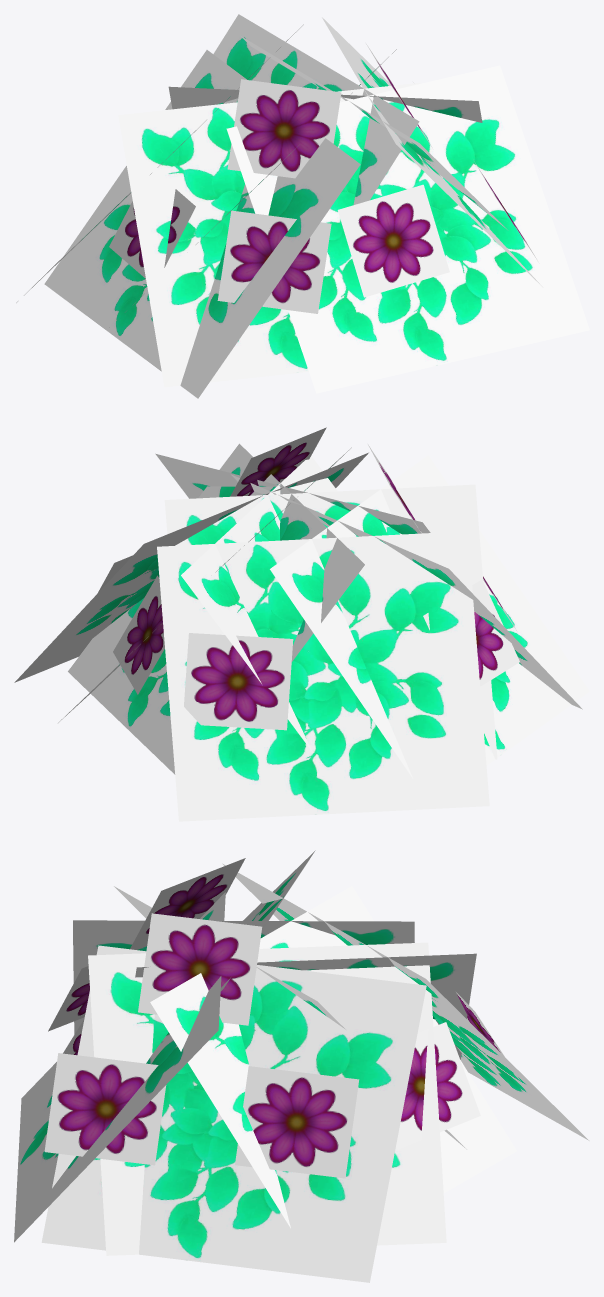
Rendered from Bush.fbx.
3 views of the same model, one above another, from view 1: azimuth 30°, elevation 25°; view 2: azimuth 150°, elevation 25°; view 3: azimuth 270°, elevation 25° (orthographic). The views are drawn at different scales.
Visible parts, largest first — view 1: Plane1483; view 2: Plane1483; view 3: Plane1483.
Boxes of the visible parts, x1,y1,x2,y2 form: Plane1483: (16, 14, 589, 398); Plane1483: (14, 427, 589, 821); Plane1483: (14, 850, 589, 1282).
Size of the model in its own units: 118 by 54.58 by 111.
Materials: 2 (2 with a texture image).
